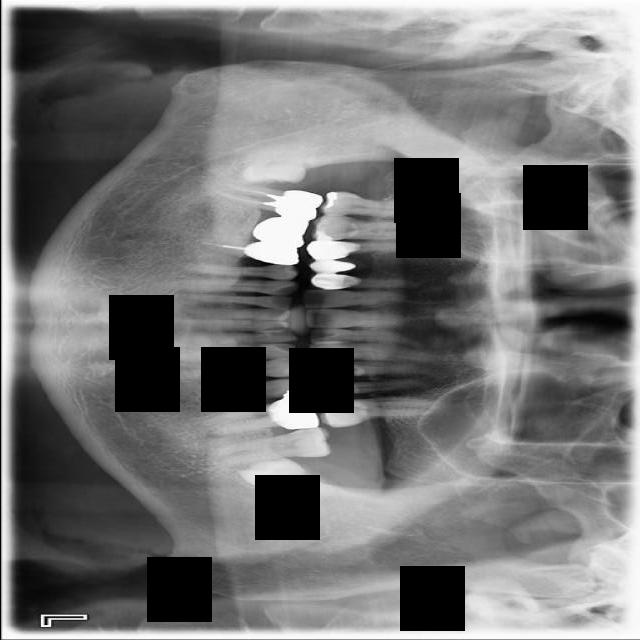52: (241, 176, 325, 275), (303, 240, 365, 291), (266, 392, 319, 434), (317, 397, 367, 428), (304, 359, 365, 381), (310, 213, 353, 243), (260, 375, 305, 401), (318, 190, 361, 217), (310, 379, 360, 399)
73: (195, 402, 280, 440), (213, 178, 285, 213), (198, 235, 257, 259), (58, 613, 81, 621)
Biomet 3i Implant: (234, 447, 339, 508)
Blue Sky Bio Implant: (215, 426, 333, 466), (212, 181, 324, 223)
Caries: (316, 190, 442, 220)
Keystone Dental Implant: (241, 142, 314, 184)
